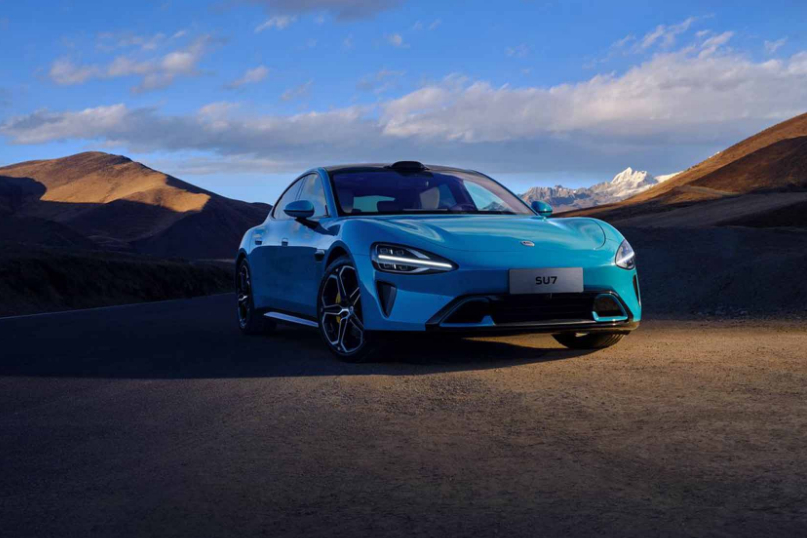su7: (234, 157, 643, 345)
